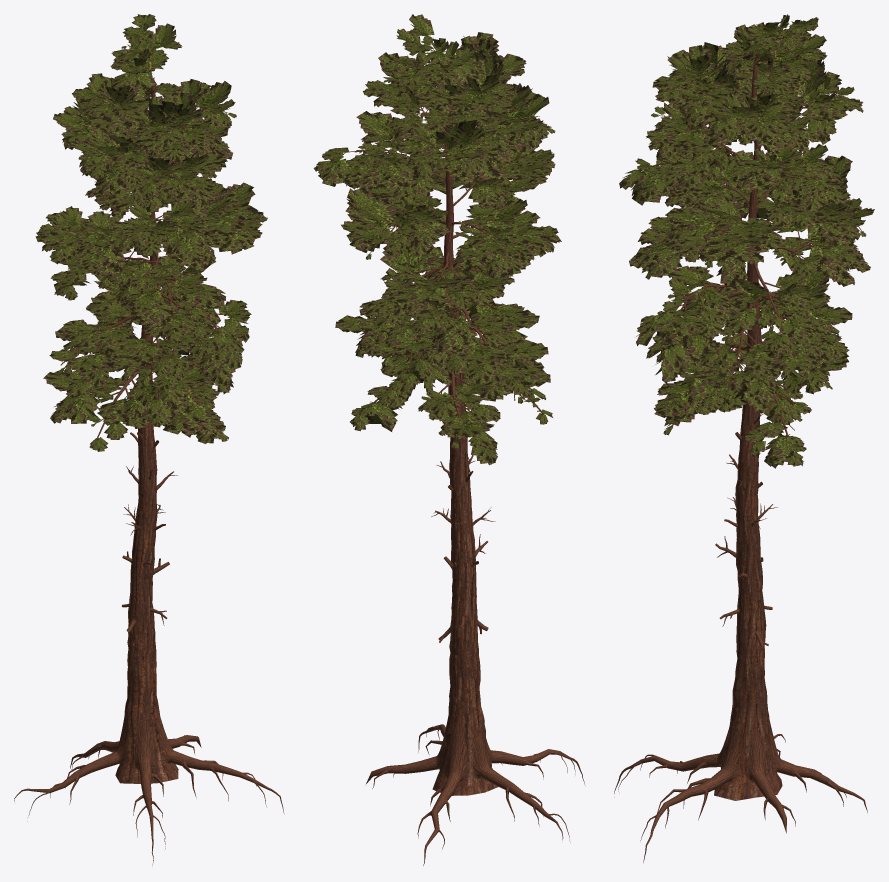
File: red_wood_tree.glb
3 renders of one model, left to right at view 1: azimuth 30°, elevation 25°; view 2: azimuth 150°, elevation 25°; view 3: azimuth 270°, elevation 25°, orthographic. The views are drawn at different scales.
Parts seen in each view (by area): view 1: RedWoodTreeTall4; view 2: RedWoodTreeTall4; view 3: RedWoodTreeTall4.
Boxes of the visible parts, x1,y1,x2,y2 form: RedWoodTreeTall4: (14,14,284,865); RedWoodTreeTall4: (313,14,585,865); RedWoodTreeTall4: (614,14,874,862).
Bounding box in the file's own units: 78.37 × 260 × 74.66.
2 materials, 2 textured.
